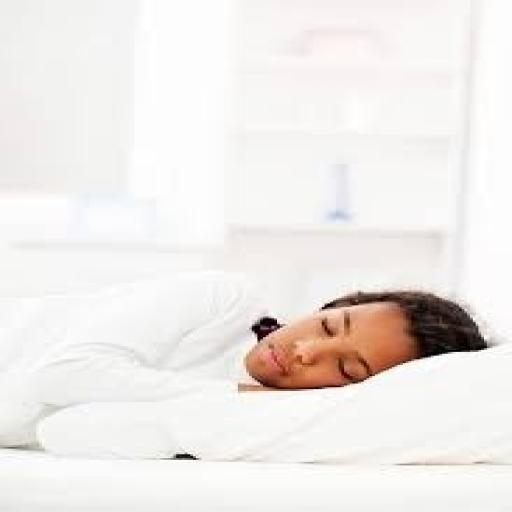sleeping: (0, 283, 492, 461)
